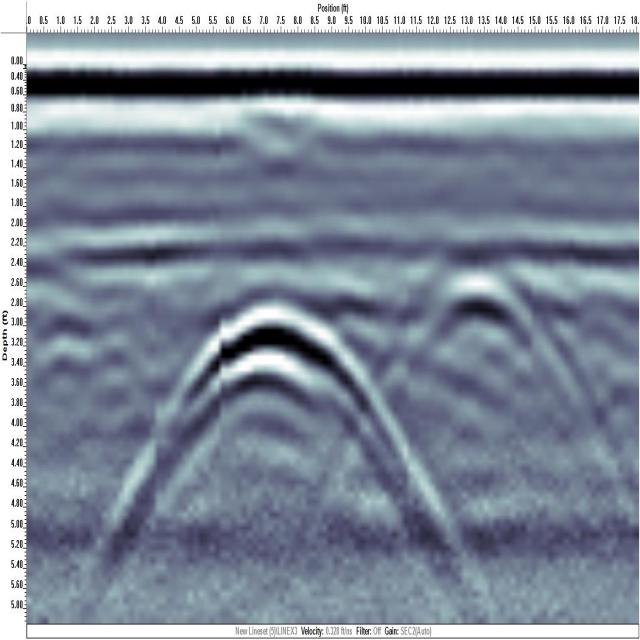hyperbola: (157, 282, 400, 471), (388, 257, 563, 398)
